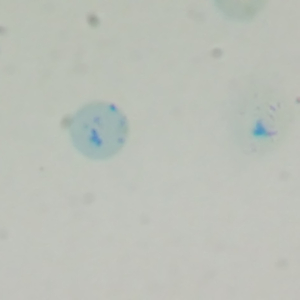aggregate reticulocyte: (68, 102, 128, 161)
